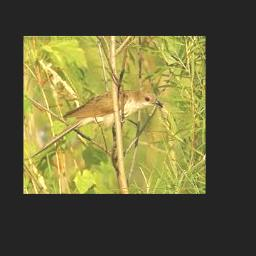Cuckoo: (30, 90, 163, 159)
